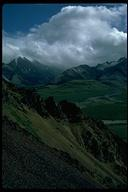cloud: (41, 9, 116, 56)
mountain: (5, 54, 125, 186)
sky: (5, 5, 123, 52)
